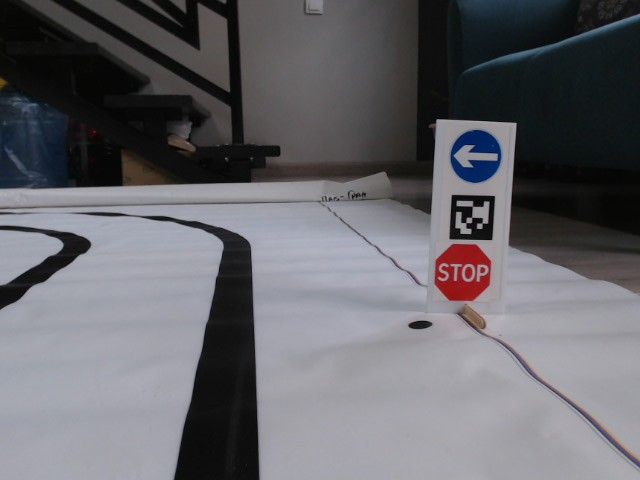Stop: (434, 240, 488, 300)
